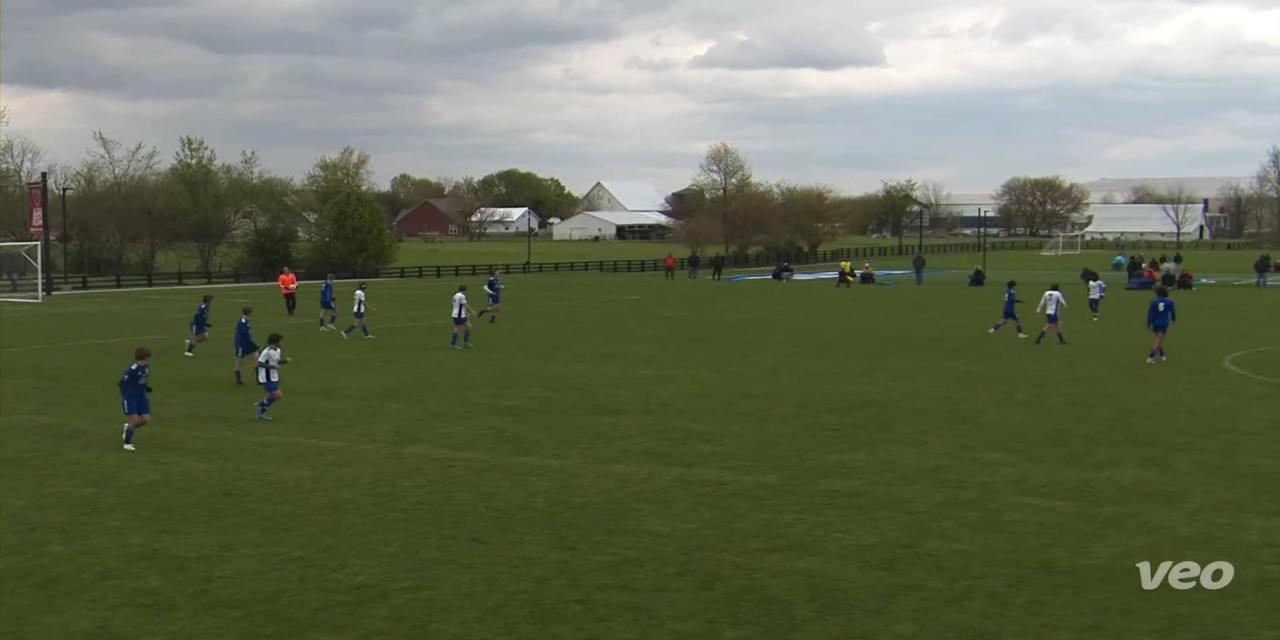goal: (0, 233, 48, 310)
